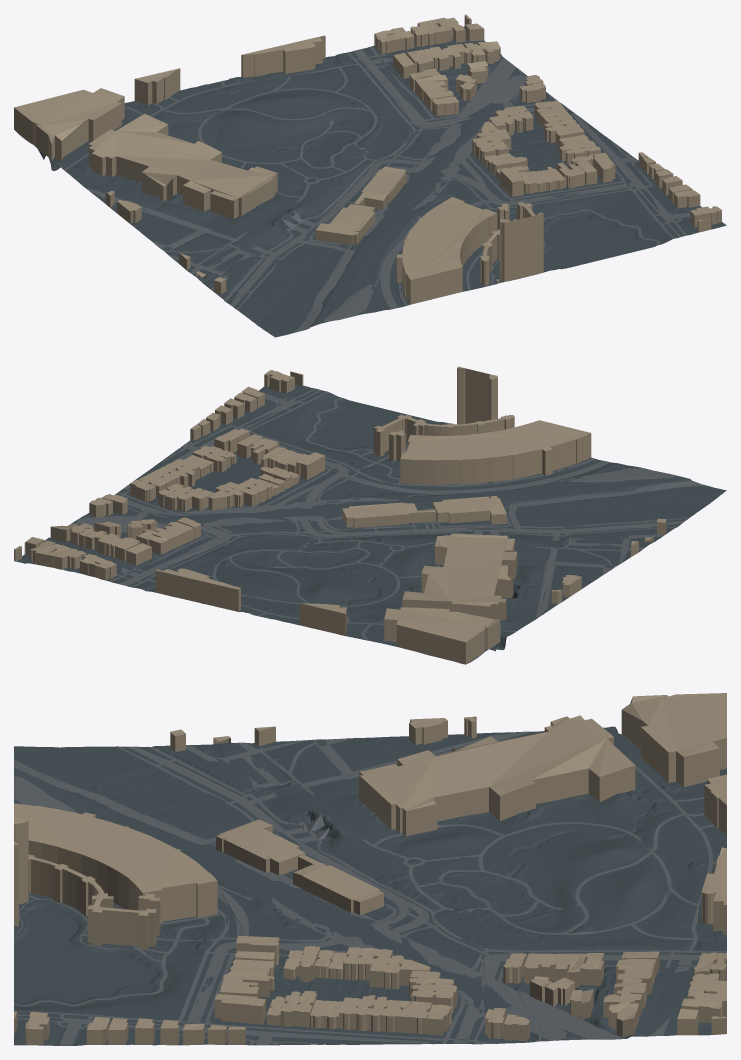
The model's file is epsg26910-1428-10895.lod0.glb.
3 views of the same model, one above another, from view 1: azimuth 30°, elevation 25°; view 2: azimuth 150°, elevation 25°; view 3: azimuth 270°, elevation 25° (orthographic). The views are drawn at different scales.
Visible parts, largest first — view 1: epsg26910-1428-10895-lod0; view 2: epsg26910-1428-10895-lod0; view 3: epsg26910-1428-10895-lod0.
Part boxes in pixels (x1,y1,x2,y2): epsg26910-1428-10895-lod0: (14, 14, 726, 337); epsg26910-1428-10895-lod0: (14, 366, 726, 664); epsg26910-1428-10895-lod0: (14, 693, 726, 1045).
Bounding box in the file's own units: 384 × 49.33 × 384.
